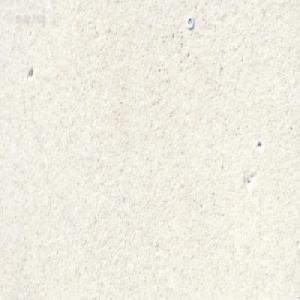Washer: (186, 16, 193, 30)
